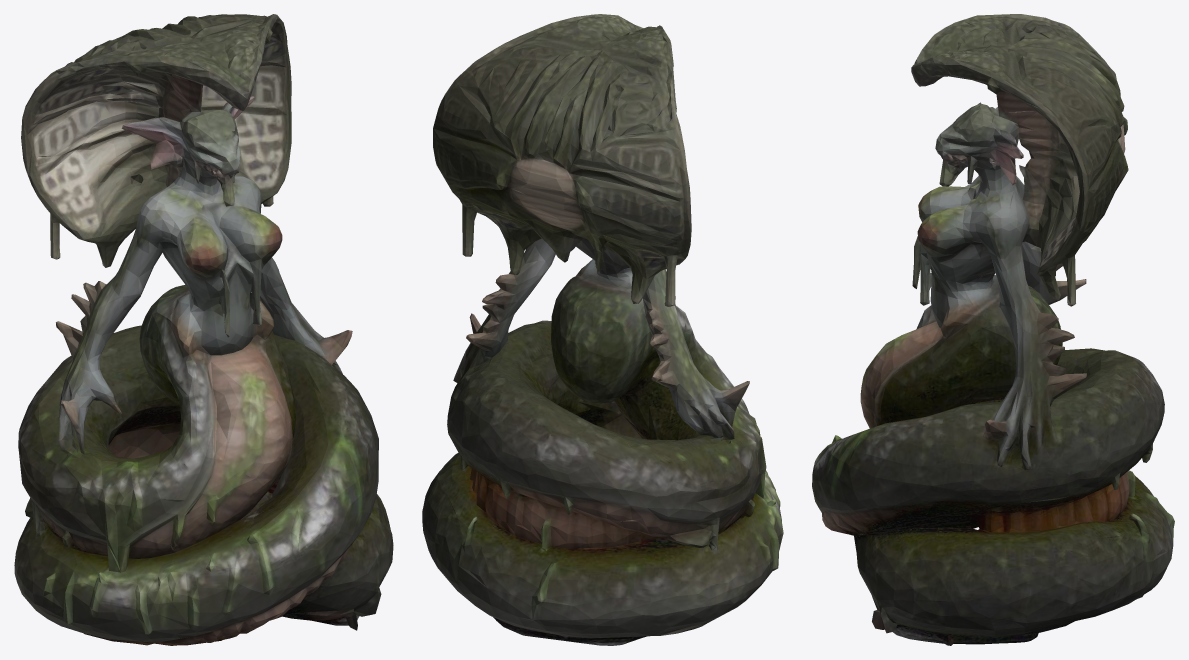
File: sewerNaga.glb
3 views of the same model, side by side, from view 1: azimuth 30°, elevation 25°; view 2: azimuth 150°, elevation 25°; view 3: azimuth 270°, elevation 25° (orthographic). The views are drawn at different scales.
Parts seen in each view (by area): view 1: world; view 2: world; view 3: world.
Part boxes in pixels (x1,y1,x2,y2): world: (14, 14, 393, 645); world: (422, 14, 783, 645); world: (812, 14, 1174, 645).
Bounding box in the file's own units: 0.6048 × 0.9971 × 0.5978.
1 material, 1 textured.
